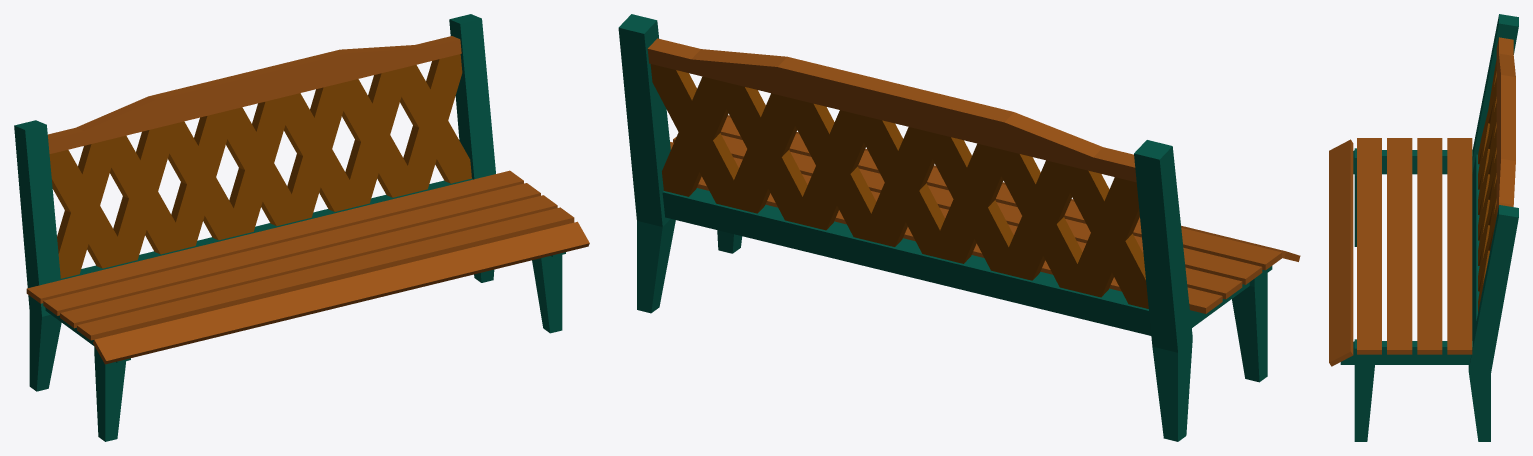
File: Bench_01.fbx
3 renders of one model, left to right at view 1: azimuth 30°, elevation 25°; view 2: azimuth 150°, elevation 25°; view 3: azimuth 270°, elevation 25°, orthographic. The views are drawn at different scales.
Visible parts, largest first — view 1: Bench_01; view 2: Bench_01; view 3: Bench_01.
Part boxes in pixels (x1,y1,x2,y2): Bench_01: [14, 14, 589, 441]; Bench_01: [618, 14, 1300, 441]; Bench_01: [1329, 14, 1518, 441].
Bounding box in the file's own units: 200 × 100 × 75.64.
